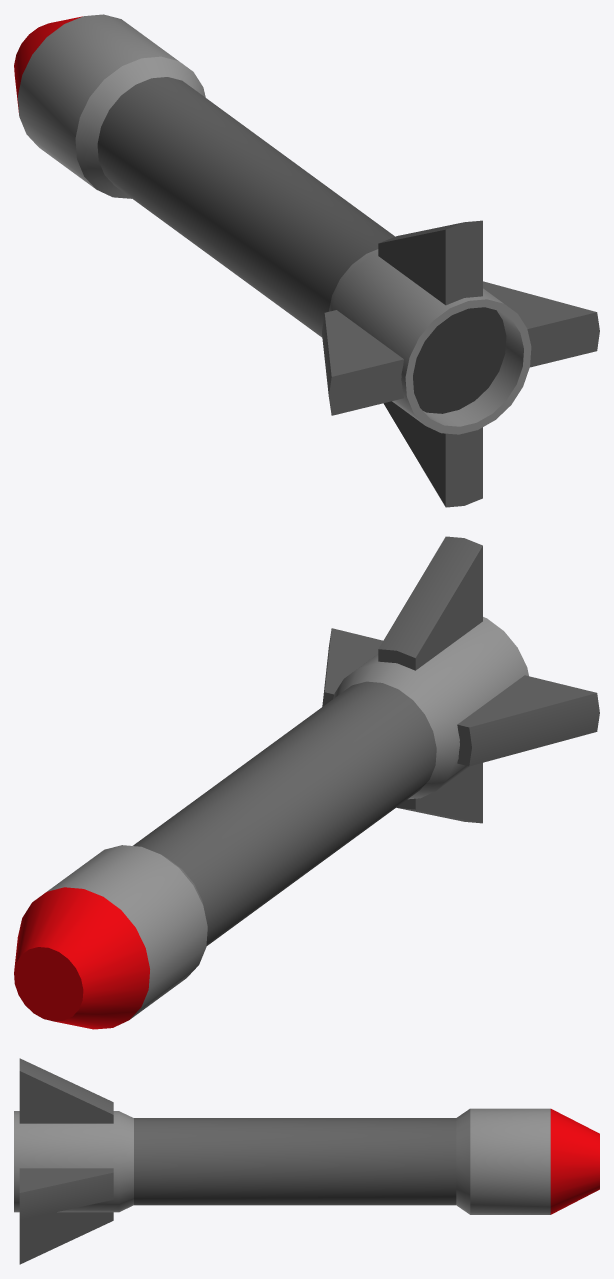
The model's file is RPG.fbx.
The picture shows the model from 3 angles, top to bottom: view 1: azimuth 30°, elevation 25°; view 2: azimuth 150°, elevation 25°; view 3: azimuth 270°, elevation 25°; orthographic projection. The views are drawn at different scales.
Visible parts, largest first — view 1: RPG; view 2: RPG; view 3: RPG.
Boxes of the visible parts, x1,y1,x2,y2 form: RPG: [14, 14, 599, 507]; RPG: [14, 536, 599, 1029]; RPG: [14, 1058, 599, 1264].
Bounding box in the file's own units: 19.6 × 19.6 × 52.55.
